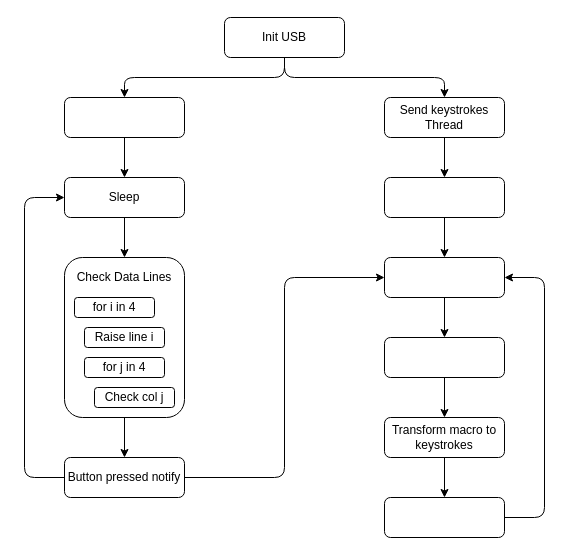
The diagram is 570 pixels wide and 555 high, and some of its shapes have lost their labels. The shapes that lost their labels are listed below. From the top down, each one's centre as x and y in pixels, then its label:
(124,117): Read Input Thread
(444,197): Read and parse macros file
(444,277): Wait for button pressed
(444,357): Transform button to macro
(444,517): Send keystrokes
